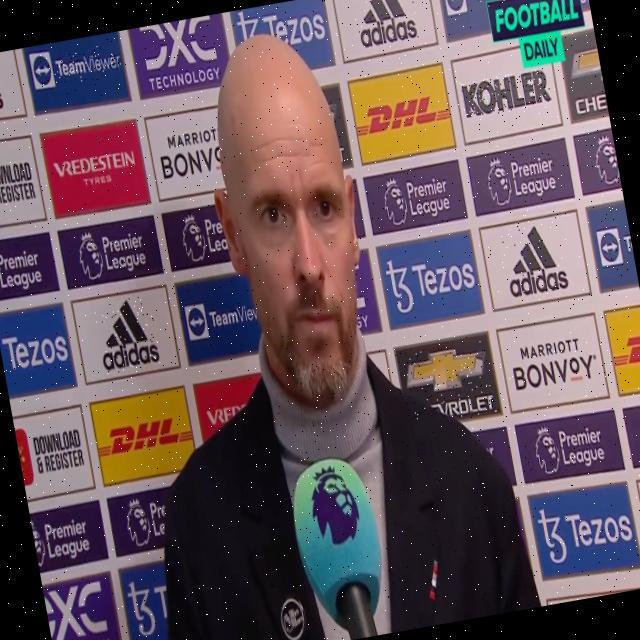Adidas: (499, 217, 571, 301), (93, 294, 162, 375), (351, 0, 420, 48)
Chevrolet: (403, 340, 499, 425)
Kohler: (460, 68, 553, 119)
TeamViewer: (31, 40, 124, 90), (442, 0, 537, 13)
